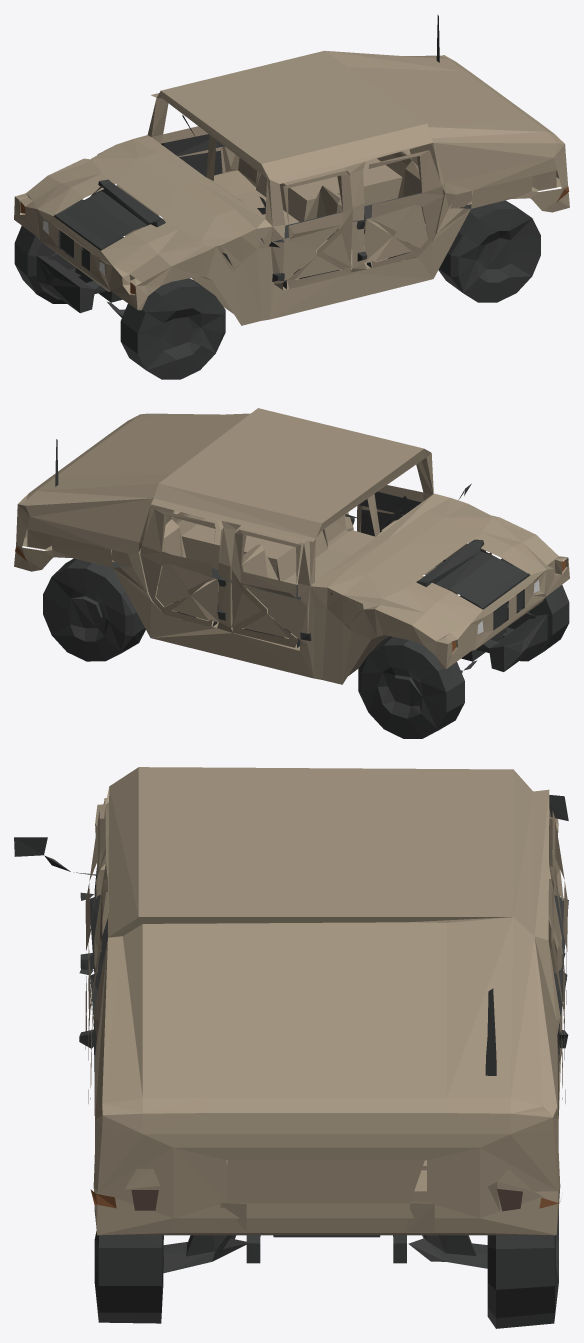
The model's file is humvee_D.glb.
3 renders of one model, top to bottom at view 1: azimuth 30°, elevation 25°; view 2: azimuth 150°, elevation 25°; view 3: azimuth 270°, elevation 25°, orthographic. The views are drawn at different scales.
Parts seen in each view (by area): view 1: world; view 2: world; view 3: world.
Boxes of the visible parts, x1,y1,x2,y2 form: world: (14, 14, 569, 379); world: (14, 408, 569, 738); world: (14, 767, 568, 1328).
Bounding box in the file's own units: 4.66 × 1.96 × 2.65.
1 material, 1 textured.
